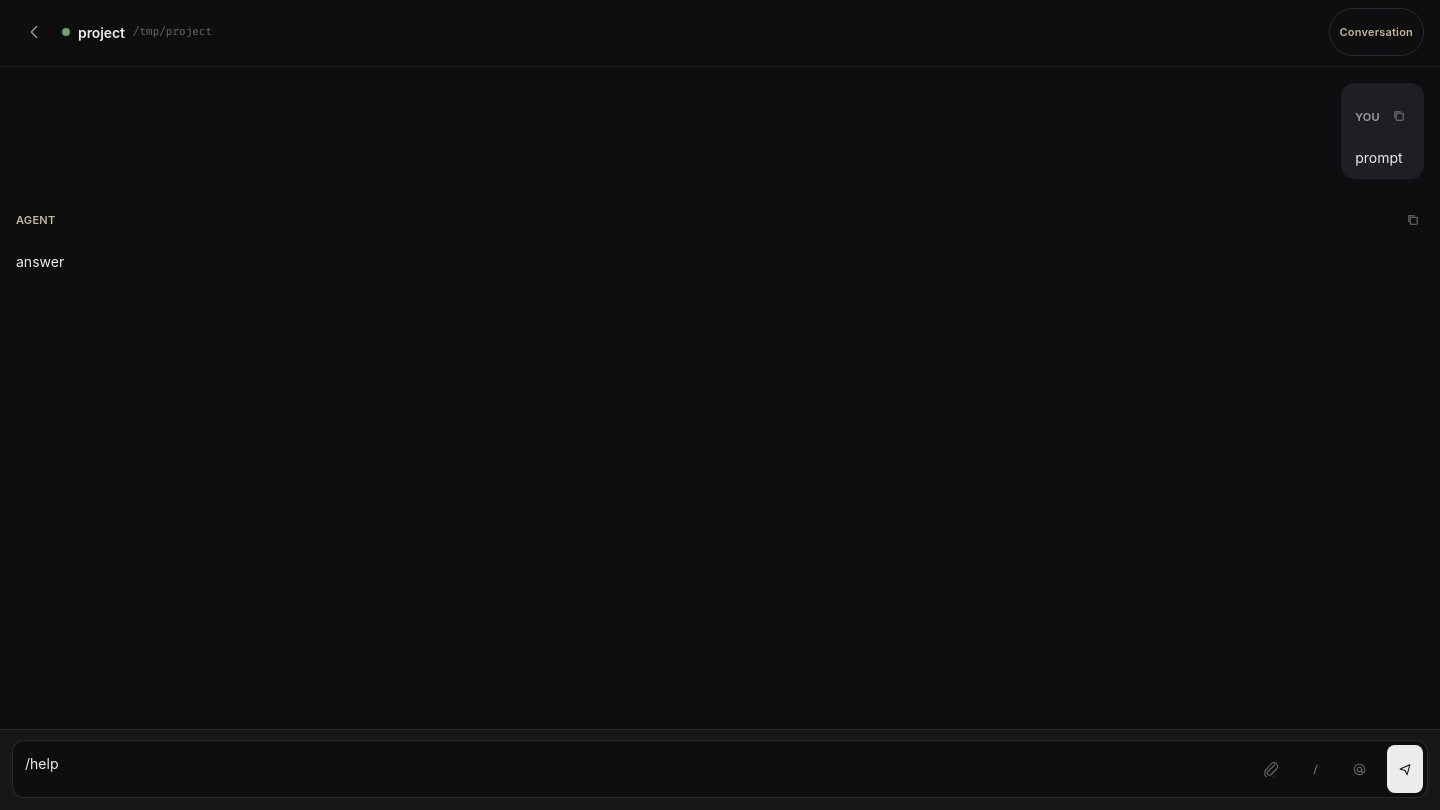
Test case: ReadingModeToggle › T3: Conversation shows two bubbles; Full shows prompt, tool card, answer; switch sends no page request
Expected: the number of elements with class "lin-msg" is 2, top-left (1341, 83), bottom-right (1424, 179); top-left (16, 197), bottom-right (1424, 296)
Expected: the text "prompt" is shown, top-left (1355, 147), bottom-right (1410, 169)
Click the button with aria-label "Reading mode: Conversation".
click(1376, 32)  # box top-left (1329, 8), bottom-right (1424, 56)
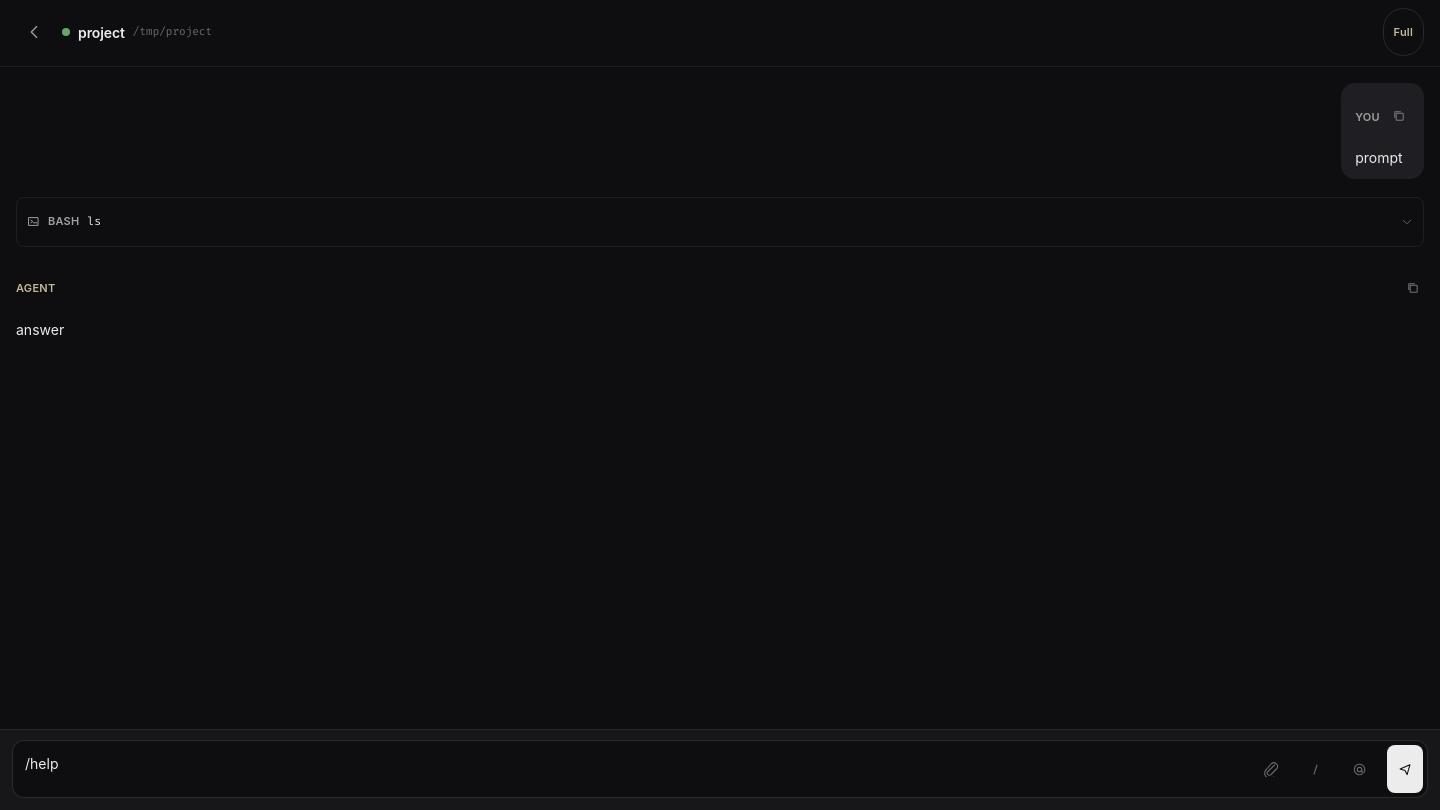
Expected: the number of elements with class "lin-msg" is 2, top-left (1341, 83), bottom-right (1424, 179); top-left (16, 265), bottom-right (1424, 364)
Now the button with aria-label "Reading mode: Full" is shown, box top-left (1383, 8), bottom-right (1424, 56)
Now the element with class "lin-tool-card" is shown, box top-left (16, 197), bottom-right (1424, 247)
